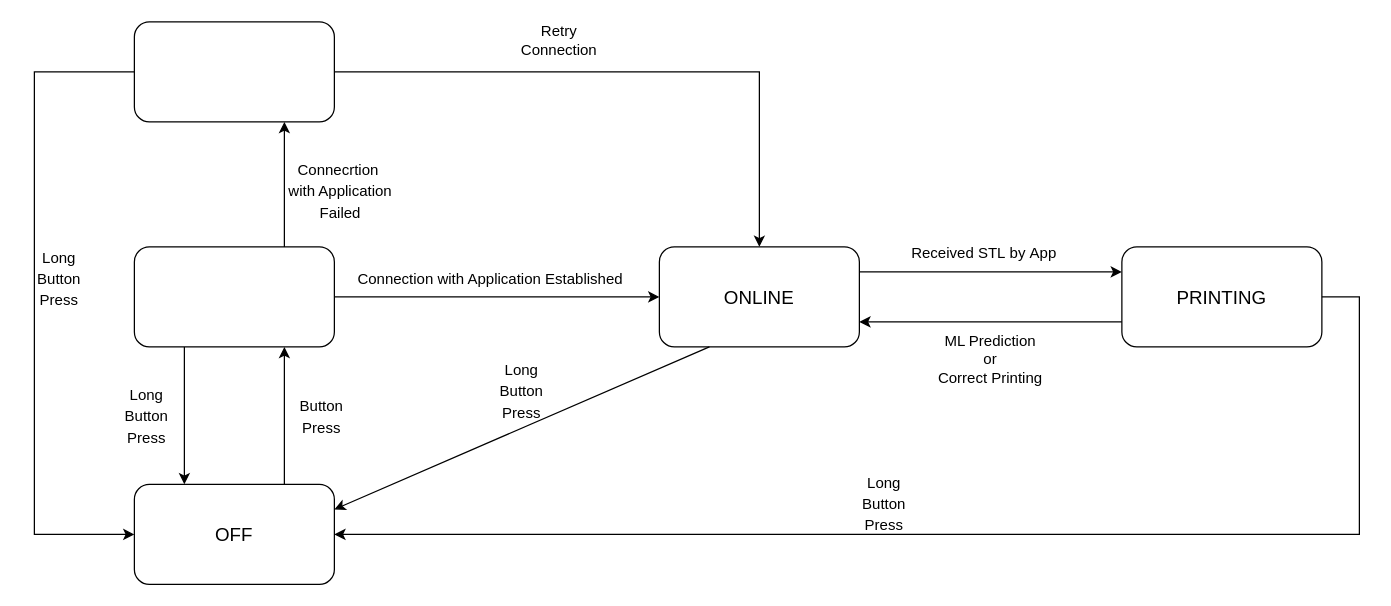
The diagram is 1391 pixels wide and 606 high, and some of its shapes have lost their labels. The shapes that lost their labels are listed below. From the top down, each one's centre as x and y in pixels, then its label:
At (233,71): "OFFLINE".
At (233,296): "INITIALIZATION".
